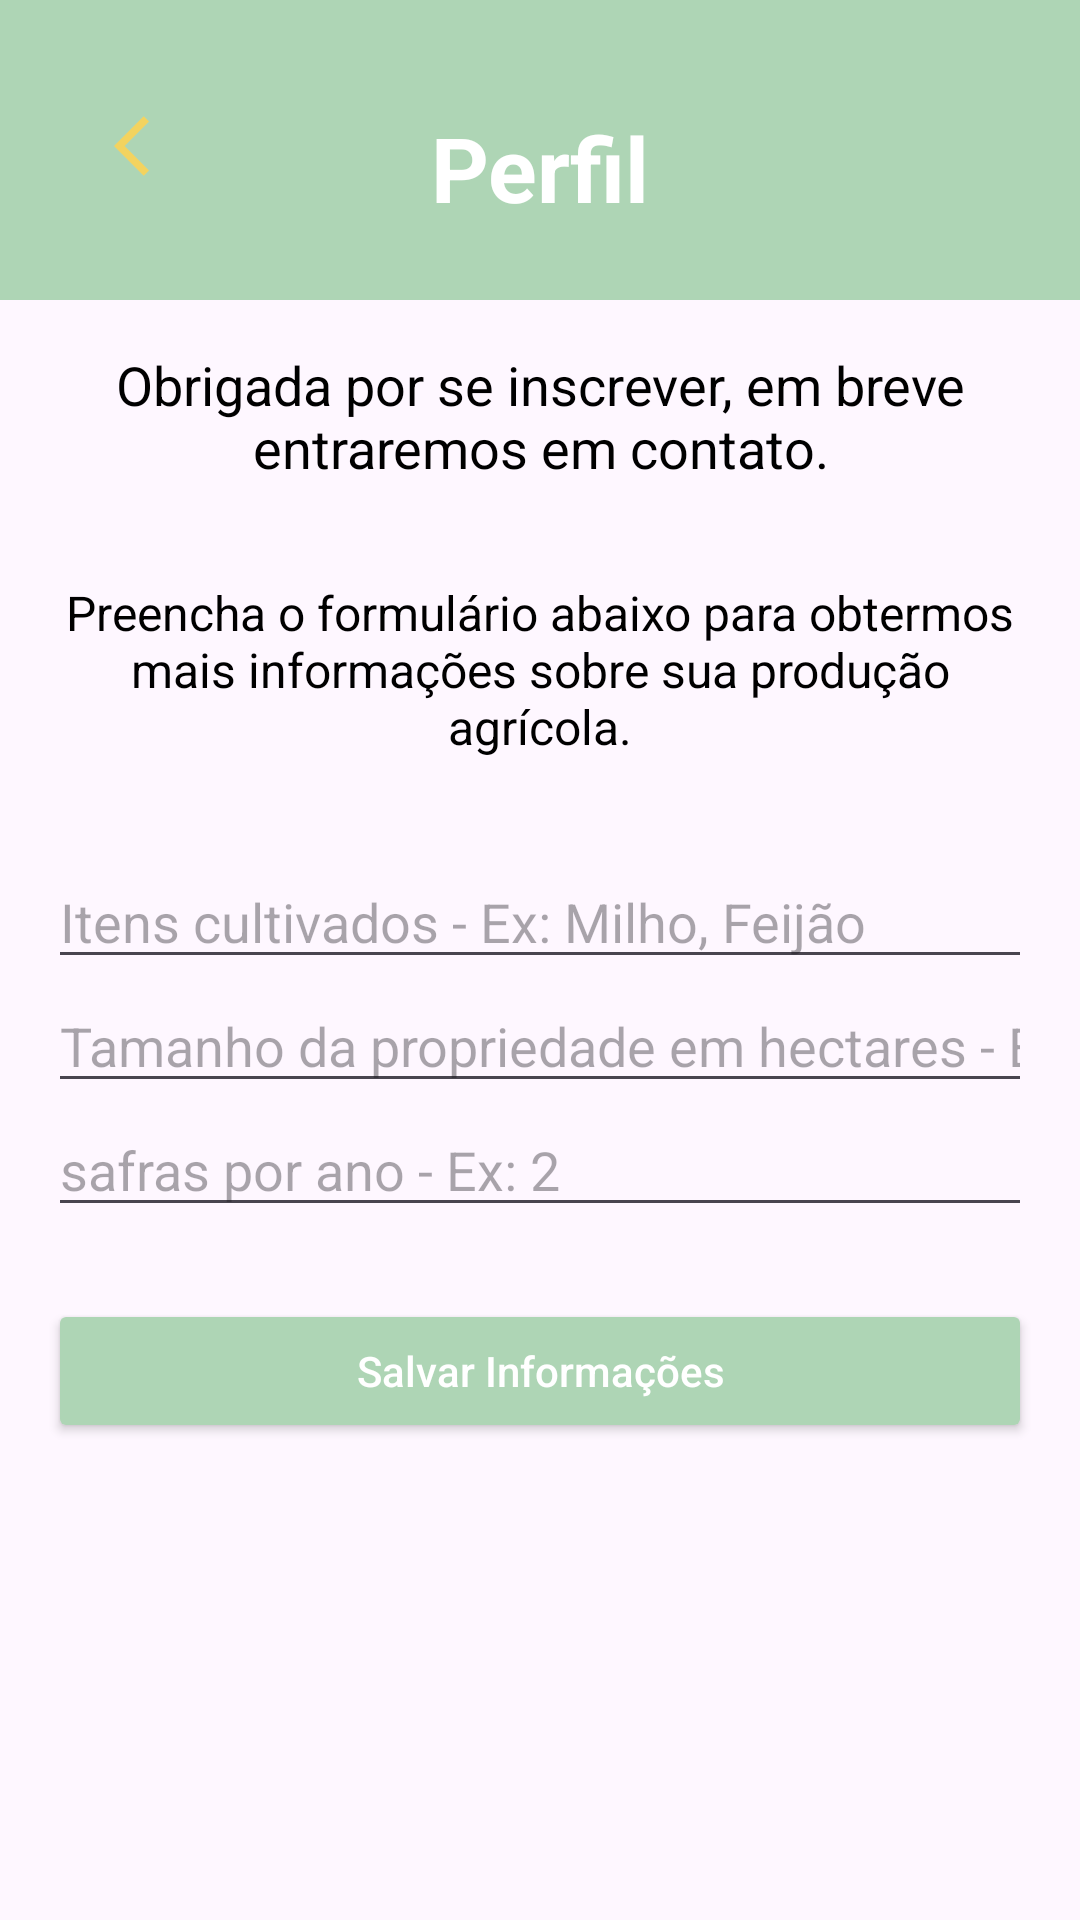

Icons on this 1080 x 1920 Android screen, each with its box as (x1, y1, x2, y2):
Botão de Voltar: (114, 116, 149, 176)
